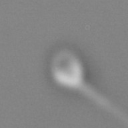normal: (80, 83, 128, 123)
